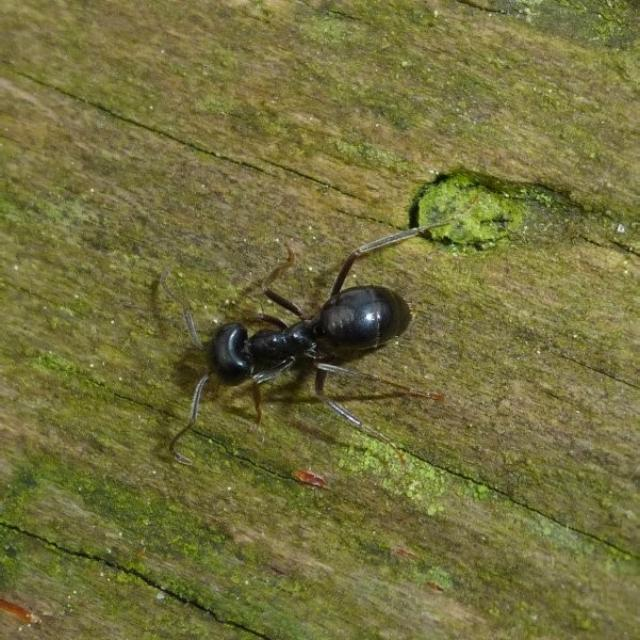Lasius: (122, 223, 478, 437)
